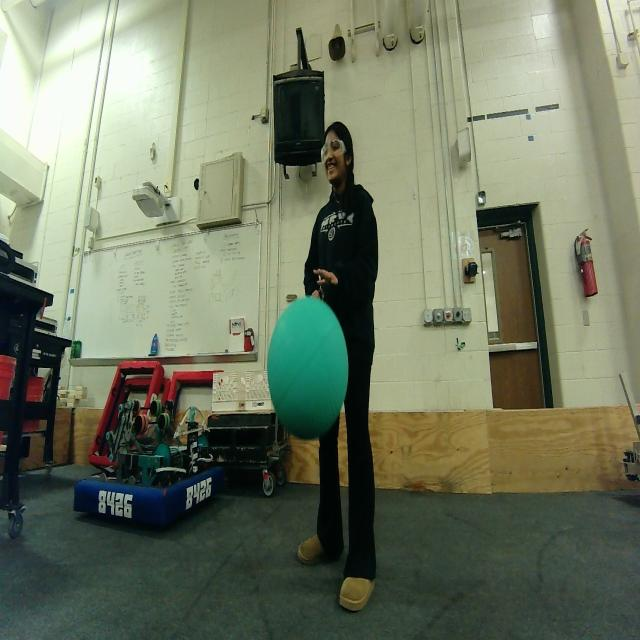algae: (264, 298, 348, 439)
